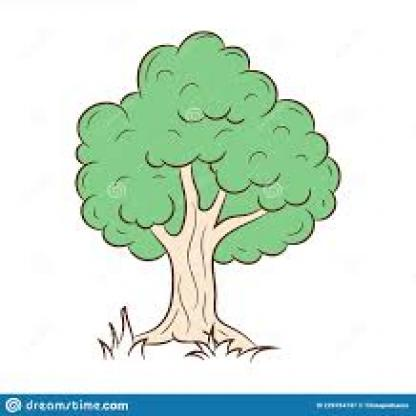branch_cut: (148, 168, 267, 258)
crown_cloud: (76, 31, 341, 265)
root_none: (130, 319, 261, 370)
trunk_bark: (168, 264, 218, 318)
